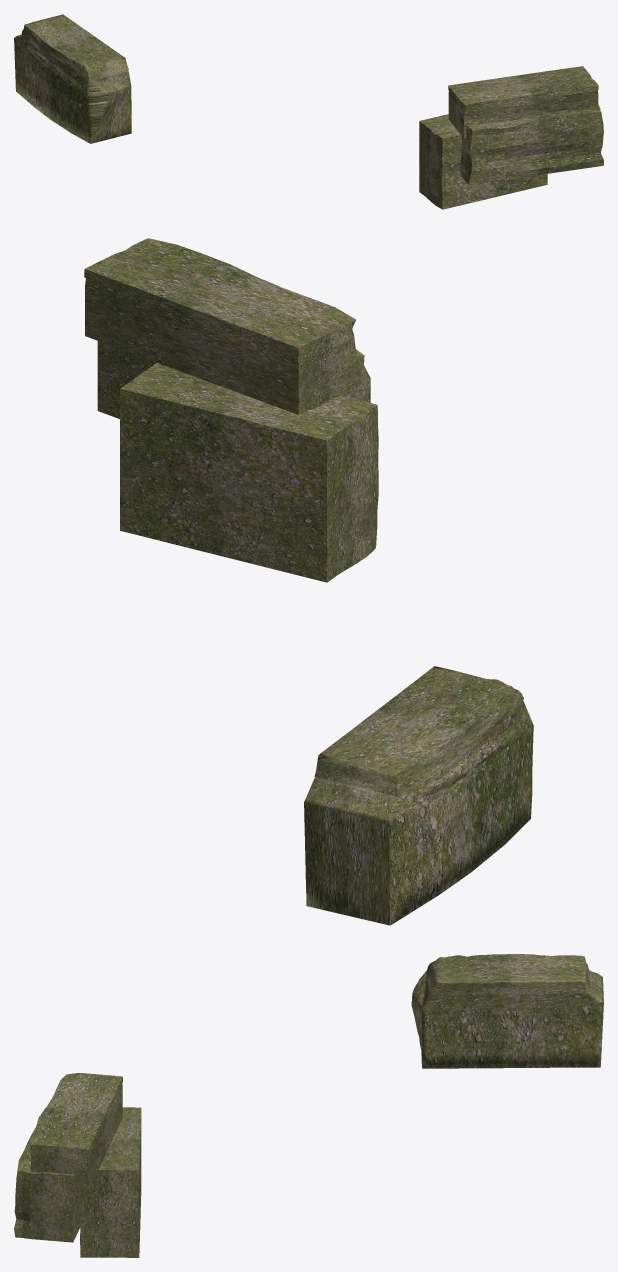
Rendered from Addition.fbx.
3 views of the same model, one above another, from view 1: azimuth 30°, elevation 25°; view 2: azimuth 150°, elevation 25°; view 3: azimuth 270°, elevation 25° (orthographic). The views are drawn at different scales.
Visible parts, largest first — view 1: Bottom (×2), Addition__3_, Top (×2), Addition__1_; view 2: Bottom (×2), Addition__1_, Top (×2), Addition__3_; view 3: Bottom (×2), Top (×2), Addition__1_, Addition__3_.
Part boxes in pixels (bbox=[...]): Bottom (×2): bbox=[14, 34, 598, 143]; Addition__3_: bbox=[460, 105, 603, 185]; Top (×2): bbox=[21, 14, 598, 107]; Addition__1_: bbox=[419, 114, 547, 209]; Bottom (×2): bbox=[85, 278, 533, 925]; Addition__1_: bbox=[120, 363, 378, 582]; Top (×2): bbox=[84, 238, 523, 796]; Addition__3_: bbox=[97, 341, 370, 418]; Bottom (×2): bbox=[30, 970, 603, 1190]; Top (×2): bbox=[30, 954, 590, 1154]; Addition__1_: bbox=[80, 1107, 141, 1257]; Addition__3_: bbox=[14, 1108, 83, 1242].
Size of the model in its own units: 64.42 by 18.33 by 73.2.
